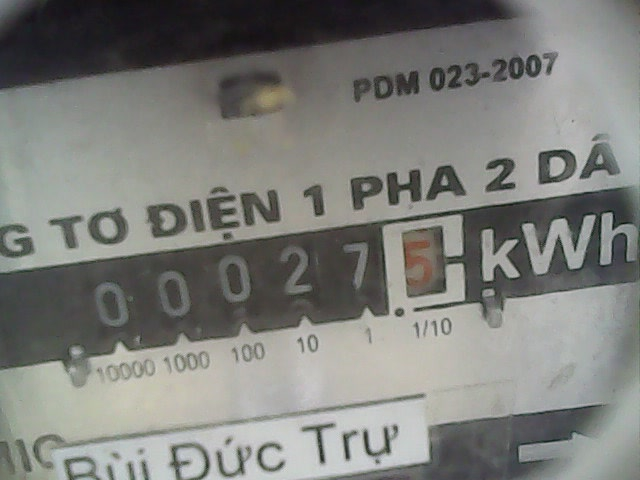phy_plate: (70, 213, 474, 337)
